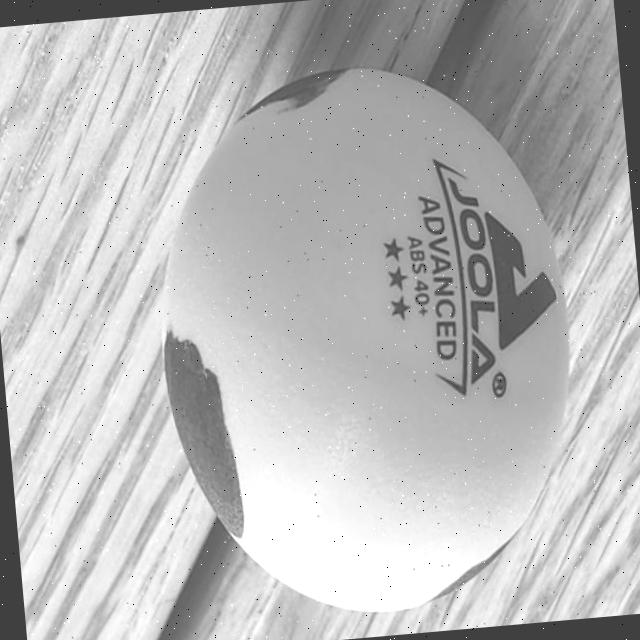ping-pong-ball: (119, 32, 602, 640)
